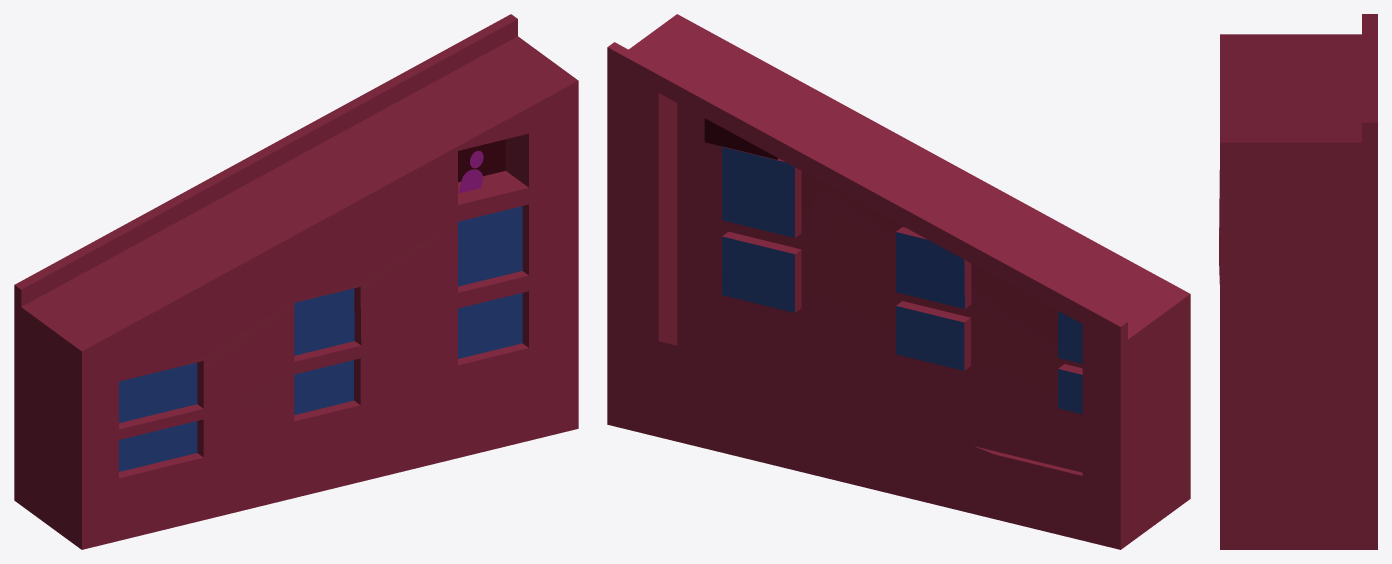
File: SlantedRoof1.fbx
3 views of the same model, side by side, from view 1: azimuth 30°, elevation 25°; view 2: azimuth 150°, elevation 25°; view 3: azimuth 270°, elevation 25° (orthographic). The views are drawn at different scales.
Visible parts, largest first — view 1: RoofFacingForwardFloor; view 2: RoofFacingForwardFloor; view 3: RoofFacingForwardFloor.
Part boxes in pixels (<box>): RoofFacingForwardFloor: <box>14,14,578,549</box>; RoofFacingForwardFloor: <box>607,14,1190,549</box>; RoofFacingForwardFloor: <box>1219,14,1377,549</box>.
Bounding box in the file's own units: 24.48 × 17.21 × 5.79.
